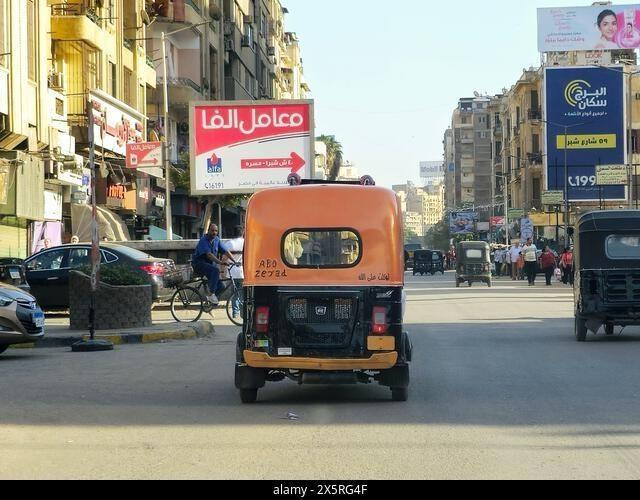keke: (234, 182, 414, 418), (566, 210, 637, 347)
